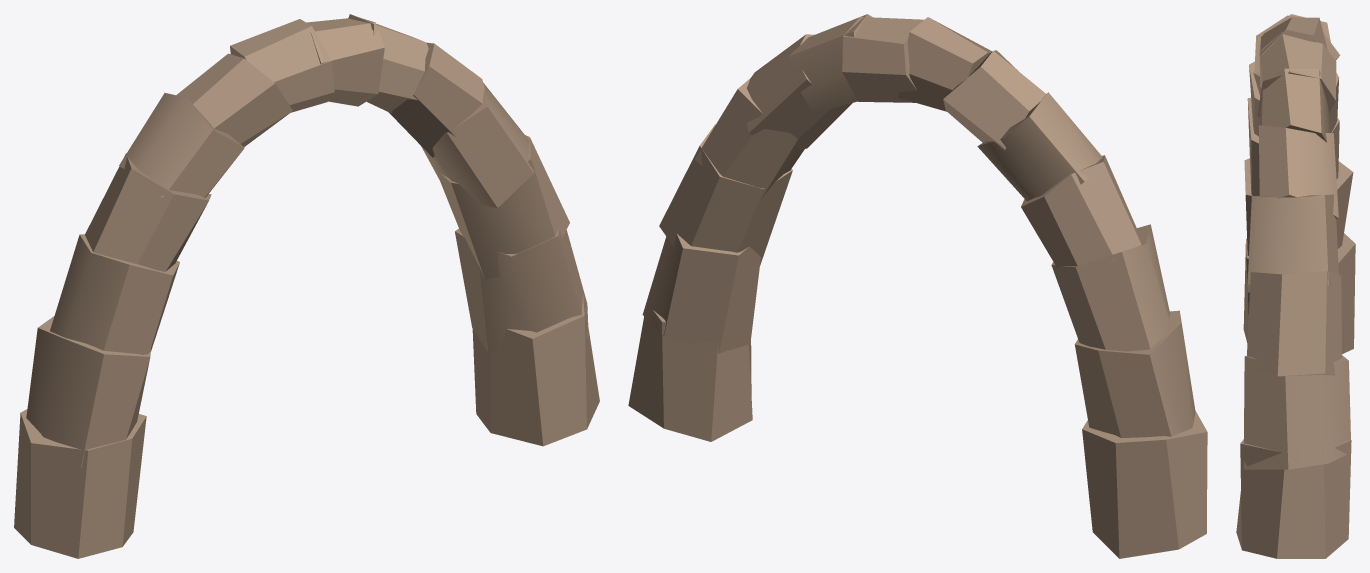
The model's file is arch_giant.glb.
3 renders of one model, left to right at view 1: azimuth 30°, elevation 25°; view 2: azimuth 150°, elevation 25°; view 3: azimuth 270°, elevation 25°, orthographic. The views are drawn at different scales.
Visible parts, largest first — view 1: arch_giant; view 2: arch_giant; view 3: arch_giant.
Part boxes in pixels (<box>): arch_giant: <box>14,14,599,558</box>; arch_giant: <box>628,14,1207,558</box>; arch_giant: <box>1236,14,1355,558</box>.
Bounding box in the file's own units: 58.57 × 45.93 × 11.74.
